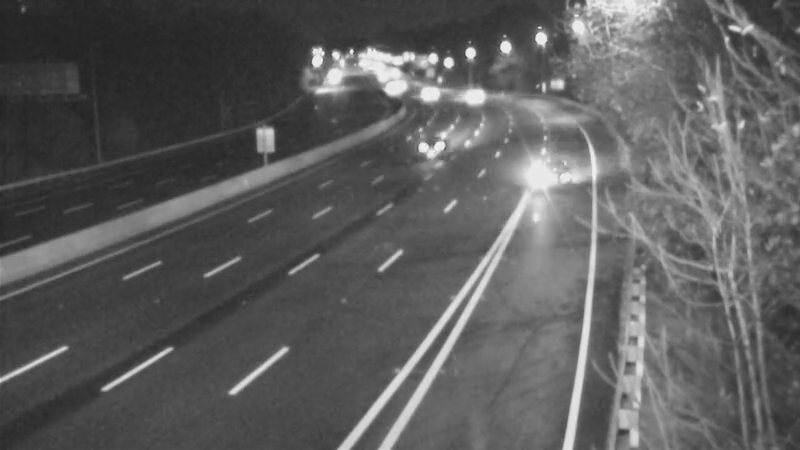vehicle: (509, 126, 589, 206), (406, 67, 456, 117), (442, 70, 492, 120), (412, 115, 462, 165)
